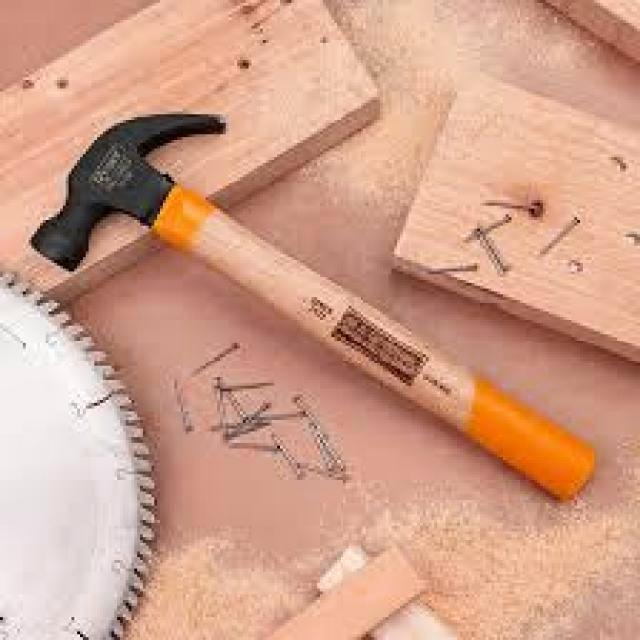hammer: (19, 103, 608, 503)
